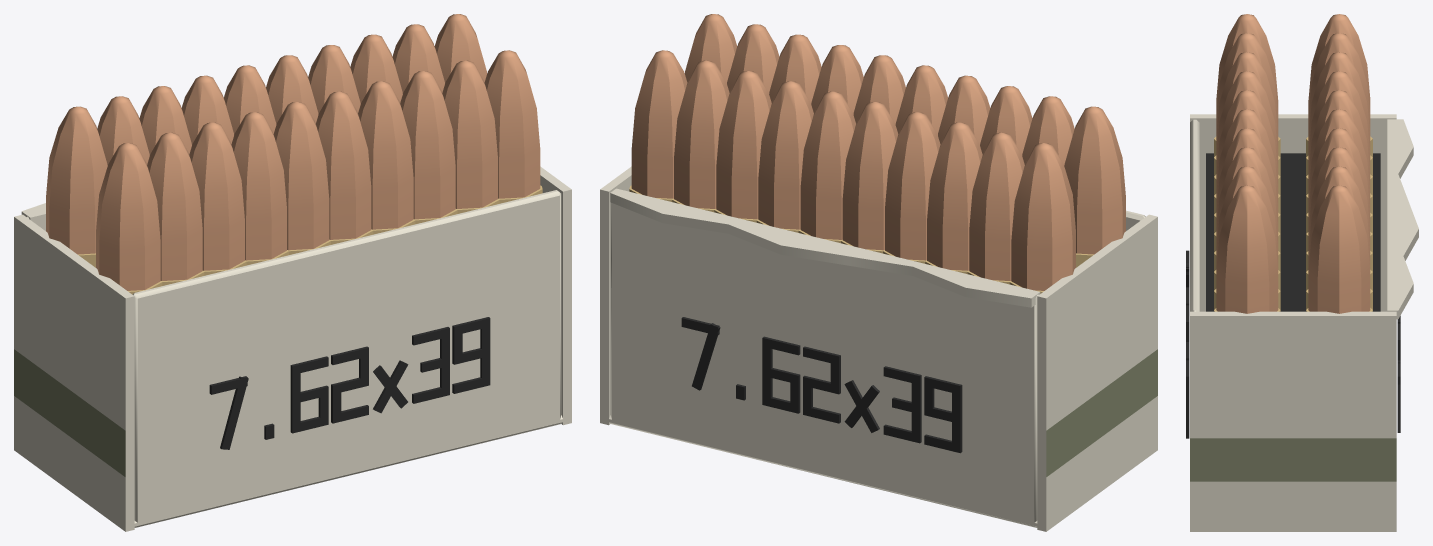
Rendered from ammo_762x39.glb.
The picture shows the model from 3 angles, left to right: view 1: azimuth 30°, elevation 25°; view 2: azimuth 150°, elevation 25°; view 3: azimuth 270°, elevation 25°; orthographic projection. The views are drawn at different scales.
Visible parts, largest first — view 1: body; view 2: body; view 3: body.
Boxes of the visible parts, <box> form: body: <box>14,14,571,531</box>; body: <box>600,14,1157,531</box>; body: <box>1186,14,1418,531</box>.
Size of the model in its own units: 0.06 by 0.046 by 0.0293.
